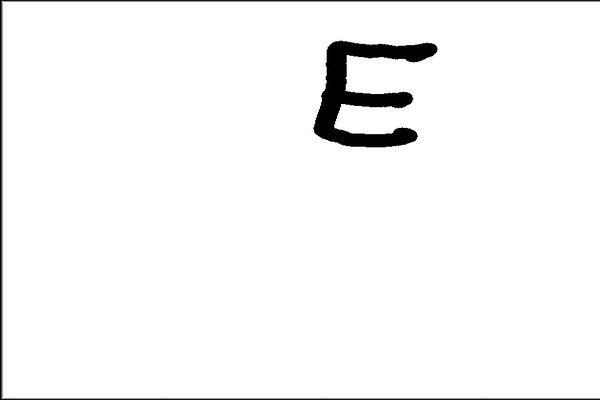E: (307, 34, 442, 152)
